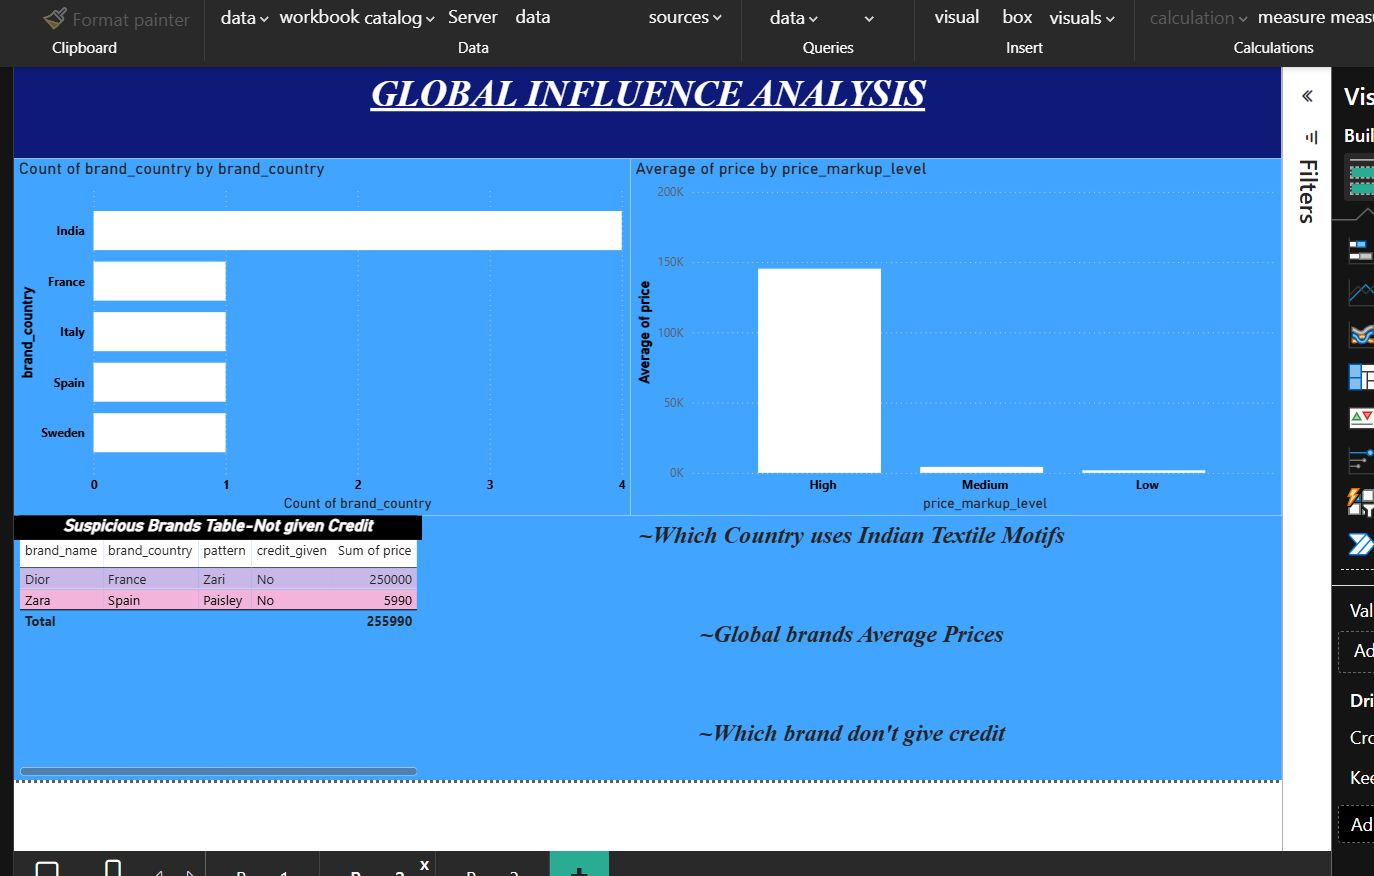

The dashboard page shown, as its layout file describes it:
{"tool":"powerbi","page":{"name":"Page 2","canvas":[1280,720],"ordinal":1},"visuals":[{"type":"textbox","box":[0,0,1279.4,92.3],"z":0},{"type":"clusteredBarChart","fields":{"Category":["public textile_designs.brand_country"],"Y":["CountNonNull(public textile_designs.brand_country)"]},"box":[0,92.3,622.2,360],"z":1000},{"type":"columnChart","fields":{"Category":["public textile_designs.price_markup_level"],"Y":["Avg(public textile_designs.price)"]},"box":[622.2,92.3,657.2,360],"z":2000},{"type":"tableEx","title":"Suspicious Brands Table-Not given Credit","fields":{"Values":["public textile_designs.brand_name","public textile_designs.brand_country","public textile_designs.pattern","public textile_designs.credit_given","Sum(public textile_designs.price)"]},"box":[0,452.3,411.7,267.7],"z":3000},{"type":"textbox","box":[411.7,452.3,867.7,267.7],"z":4000}]}

Visuals, with their boxes on the page's 1280x720 design canvas (x1, y1, x2, y2). These are canvas units, not pixel positions in the 1374x876 screenshot, which may show the page scaled, cropped or inside an application window:
textbox: (x1=0, y1=0, x2=1279, y2=92)
clusteredBarChart - public textile_designs.brand_country x CountNonNull(public textile_designs.brand_country): (x1=0, y1=92, x2=622, y2=452)
columnChart - public textile_designs.price_markup_level x Avg(public textile_designs.price): (x1=622, y1=92, x2=1279, y2=452)
"Suspicious Brands Table-Not given Credit" tableEx: (x1=0, y1=452, x2=412, y2=720)
textbox: (x1=412, y1=452, x2=1279, y2=720)
